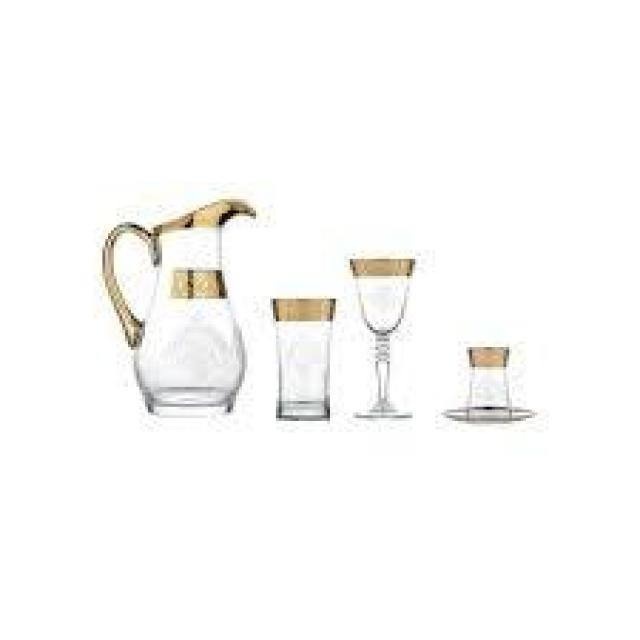glass: (100, 198, 258, 420), (347, 255, 421, 422), (268, 294, 338, 426), (443, 342, 538, 426)
